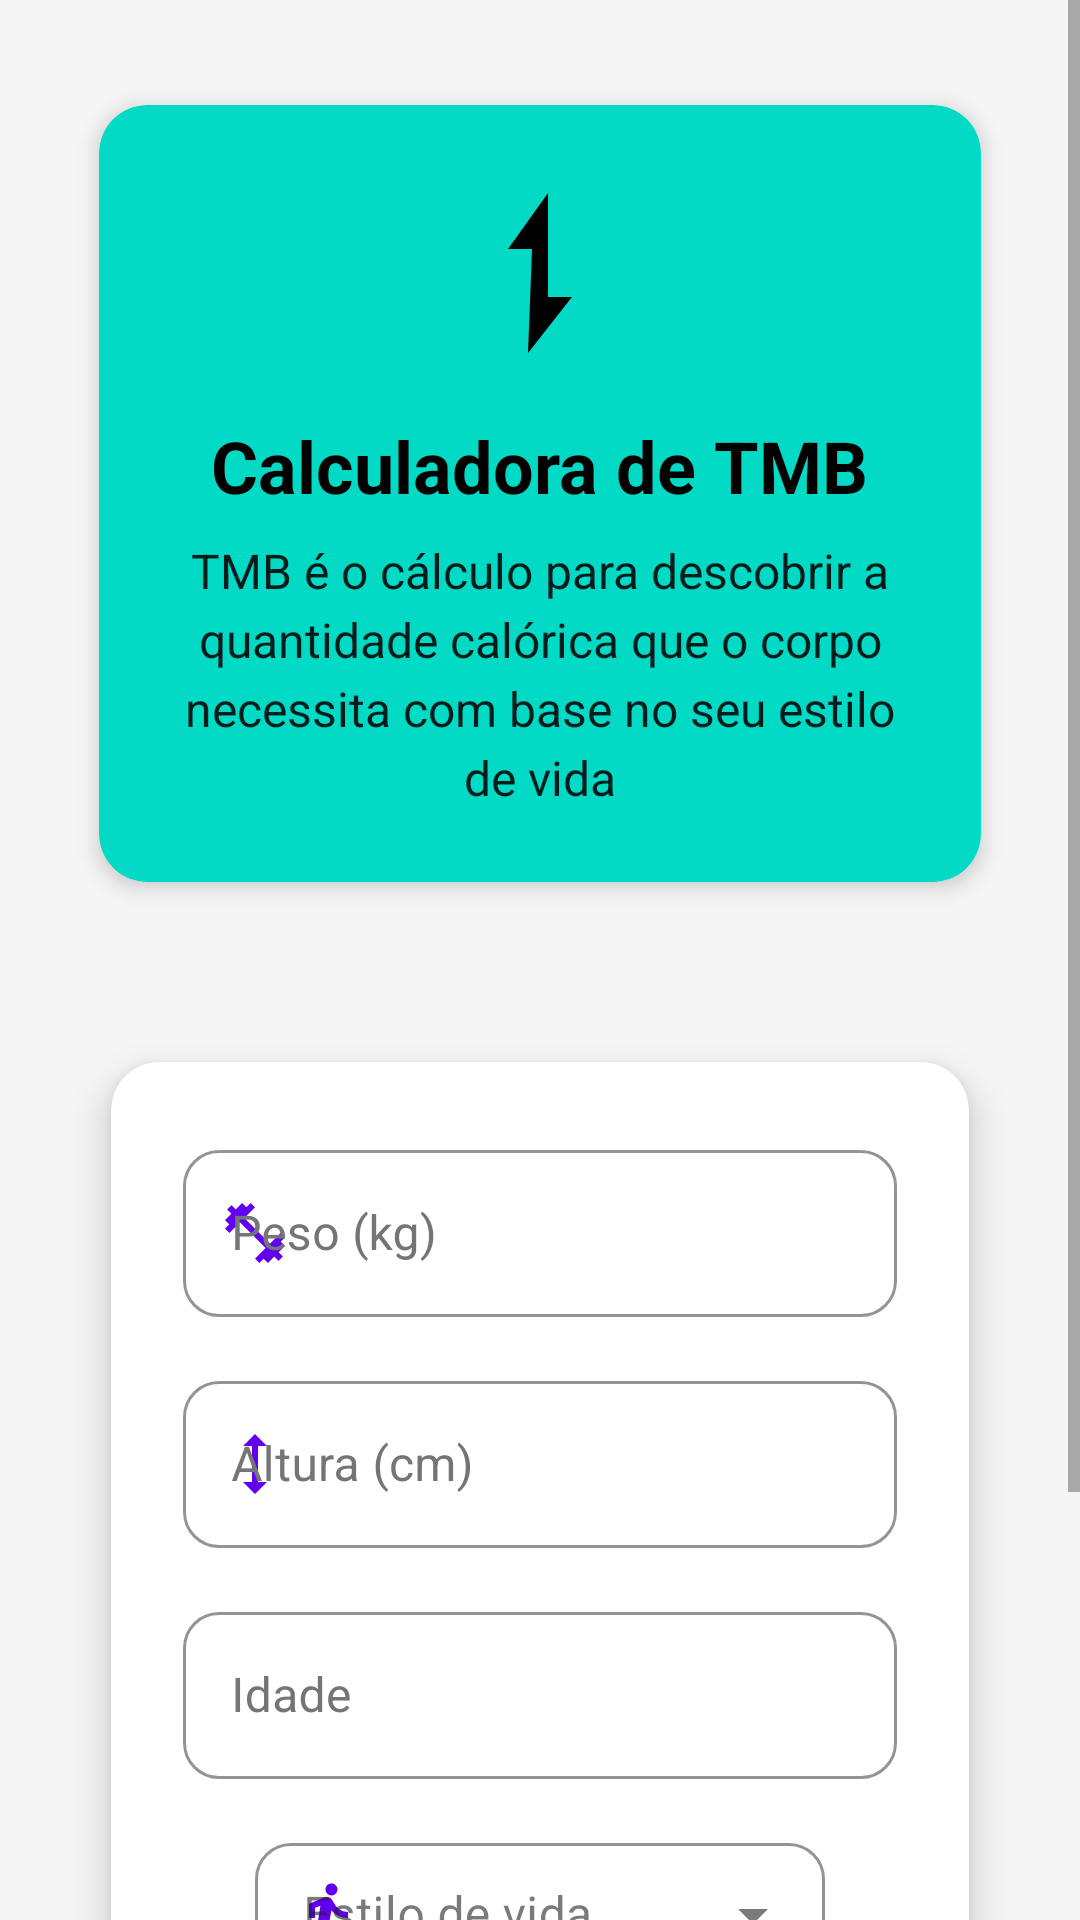

Locate icon controls on the screen. Image size 1080 x 1920, boxes as bbox=[x1, y1, x2, y2].
energy: bbox=[508, 193, 572, 353]
